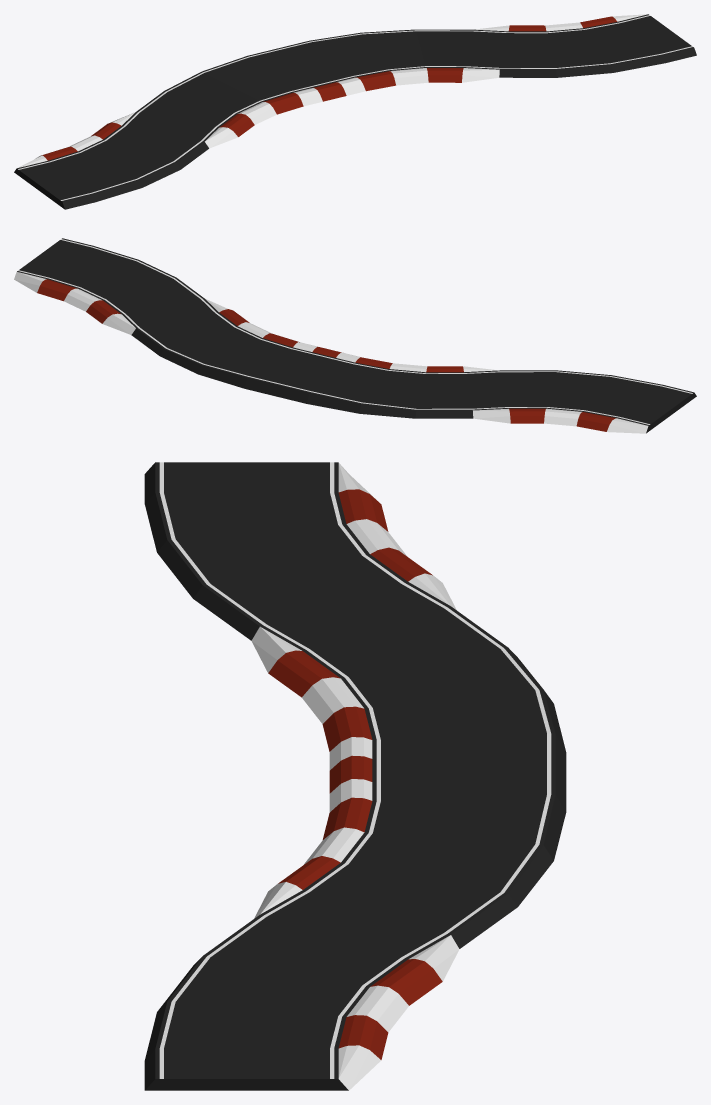
Rendered from AsphaltTurn30.fbx.
3 views of the same model, one above another, from view 1: azimuth 30°, elevation 25°; view 2: azimuth 150°, elevation 25°; view 3: azimuth 270°, elevation 25° (orthographic). The views are drawn at different scales.
Visible parts, largest first — view 1: 30Turn.001; view 2: 30Turn.001; view 3: 30Turn.001.
Part boxes in pixels (x1,y1,x2,y2): 30Turn.001: [14, 14, 696, 209]; 30Turn.001: [14, 238, 696, 433]; 30Turn.001: [144, 462, 566, 1090].
Size of the model in its own units: 8000 by 111 by 2310.
1 material, 1 textured.
